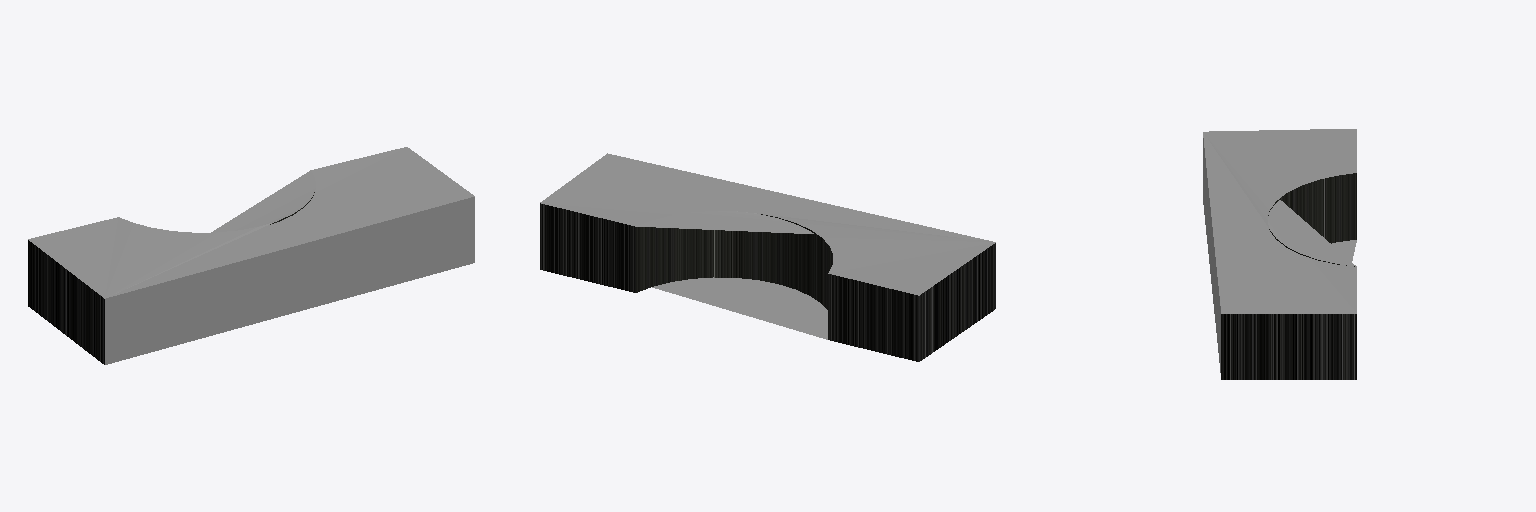
The picture shows the model from 3 angles: view 1: azimuth 30°, elevation 25°; view 2: azimuth 150°, elevation 25°; view 3: azimuth 270°, elevation 25°; orthographic projection.
Parts seen in each view (by area): view 1: Plane.003_Plane.002; view 2: Plane.003_Plane.002; view 3: Plane.003_Plane.002.
Part boxes in pixels (bbox=[...]): Plane.003_Plane.002: bbox=[28, 147, 474, 364]; Plane.003_Plane.002: bbox=[540, 153, 995, 361]; Plane.003_Plane.002: bbox=[1203, 129, 1356, 379].
Size of the model in its own units: 653 by 114 by 230.
3 materials, 2 textured.